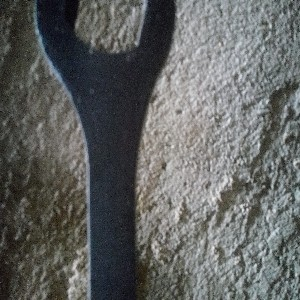spanner: (35, 1, 176, 300)
